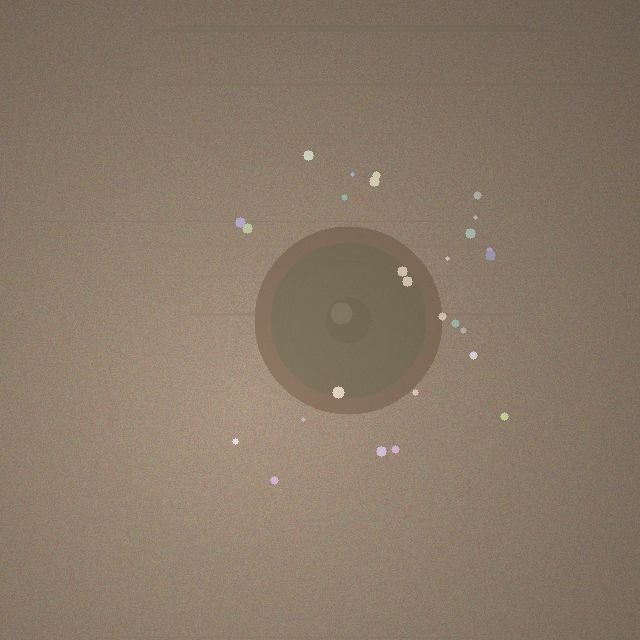overburn: (254, 226, 442, 414)
